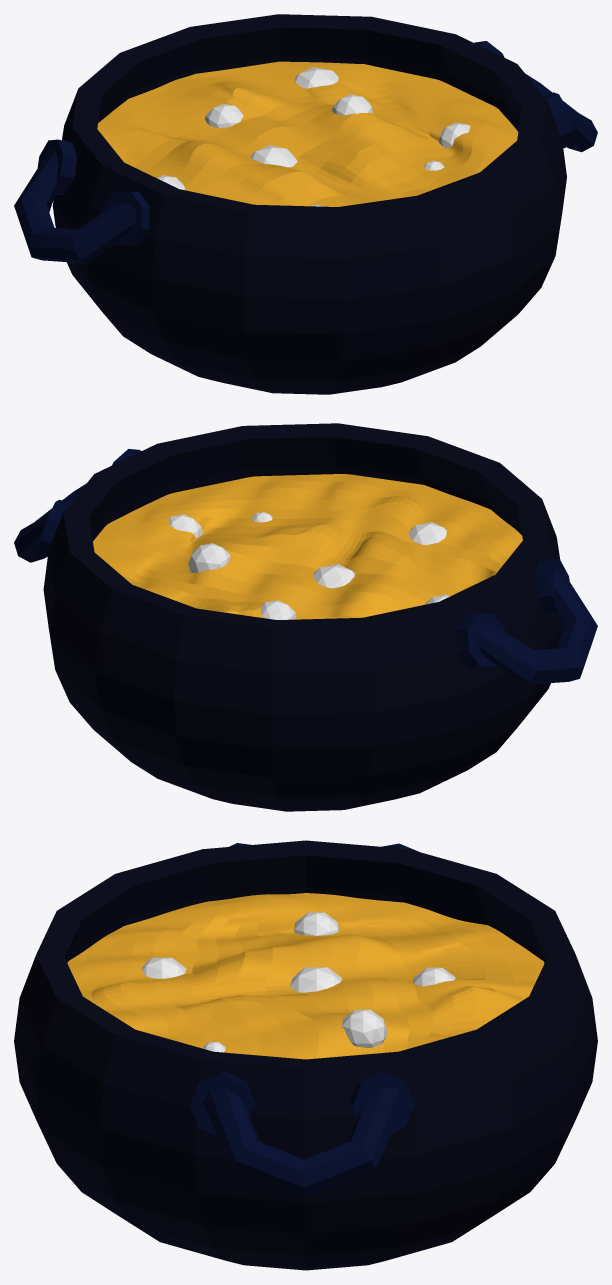
The model's file is Cauldron.fbx.
3 views of the same model, one above another, from view 1: azimuth 30°, elevation 25°; view 2: azimuth 150°, elevation 25°; view 3: azimuth 270°, elevation 25° (orthographic). The views are drawn at different scales.
Visible parts, largest first — view 1: Sphere.019, Circle.003, Torus, Icosphere.008, Torus.001; view 2: Sphere.019, Circle.003, Torus, Icosphere.008, Torus.001; view 3: Sphere.019, Circle.003, Torus.001, Icosphere.008.
Boxes of the visible parts, x1=… form: Sphere.019: x1=52, y1=14, x2=566, y2=394; Circle.003: x1=97, y1=61, x2=518, y2=206; Torus: x1=14, y1=139, x2=149, y2=263; Icosphere.008: x1=157, y1=67, x2=470, y2=206; Torus.001: x1=474, y1=41, x2=597, y2=152; Sphere.019: x1=43, y1=423, x2=561, y2=811; Circle.003: x1=93, y1=474, x2=522, y2=619; Torus: x1=456, y1=558, x2=597, y2=684; Icosphere.008: x1=168, y1=512, x2=449, y2=619; Torus.001: x1=14, y1=449, x2=141, y2=562; Sphere.019: x1=14, y1=840, x2=597, y2=1270; Circle.003: x1=67, y1=893, x2=544, y2=1059; Torus.001: x1=189, y1=1070, x2=414, y2=1197; Icosphere.008: x1=142, y1=912, x2=455, y2=1052.
Bounding box in the file's own units: 9167 × 3890 × 7502.
